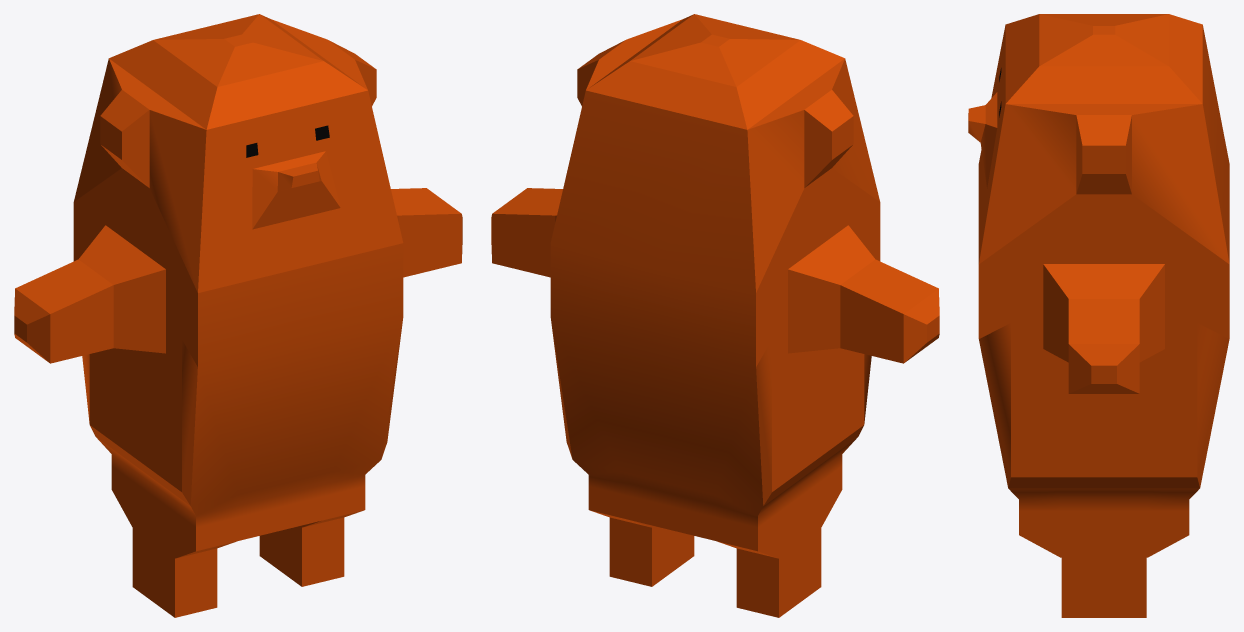
File: obear.FBX
3 renders of one model, left to right at view 1: azimuth 30°, elevation 25°; view 2: azimuth 150°, elevation 25°; view 3: azimuth 270°, elevation 25°, orthographic.
Visible parts, largest first — view 1: Box001; view 2: Box001; view 3: Box001.
Part boxes in pixels (x1,y1,x2,y2): Box001: (14, 14, 462, 617); Box001: (491, 14, 939, 617); Box001: (968, 14, 1229, 617).
Size of the model in its own units: 23.19 by 11.93 by 27.52.
2 materials, 2 textured.
